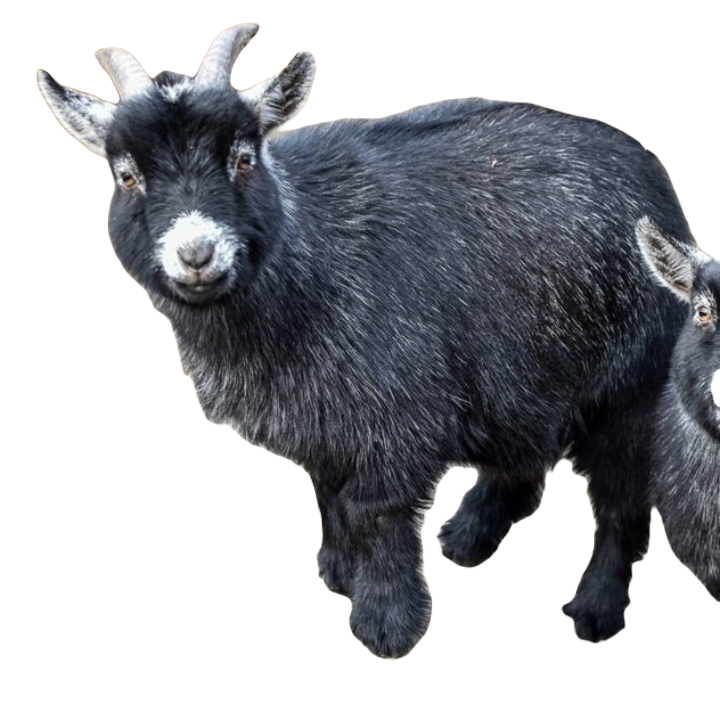Goat: (36, 22, 696, 661)
